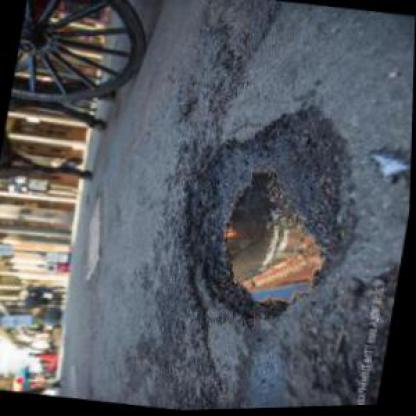pothole: (160, 85, 375, 337)
